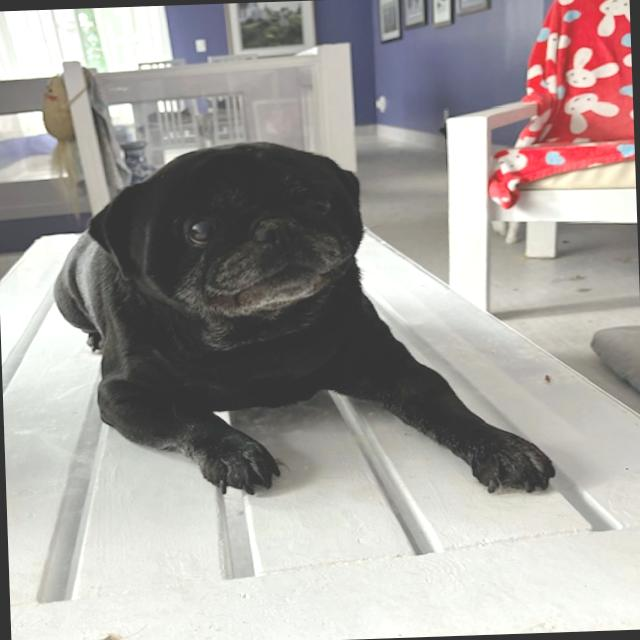pug_dog: (79, 126, 388, 366)
